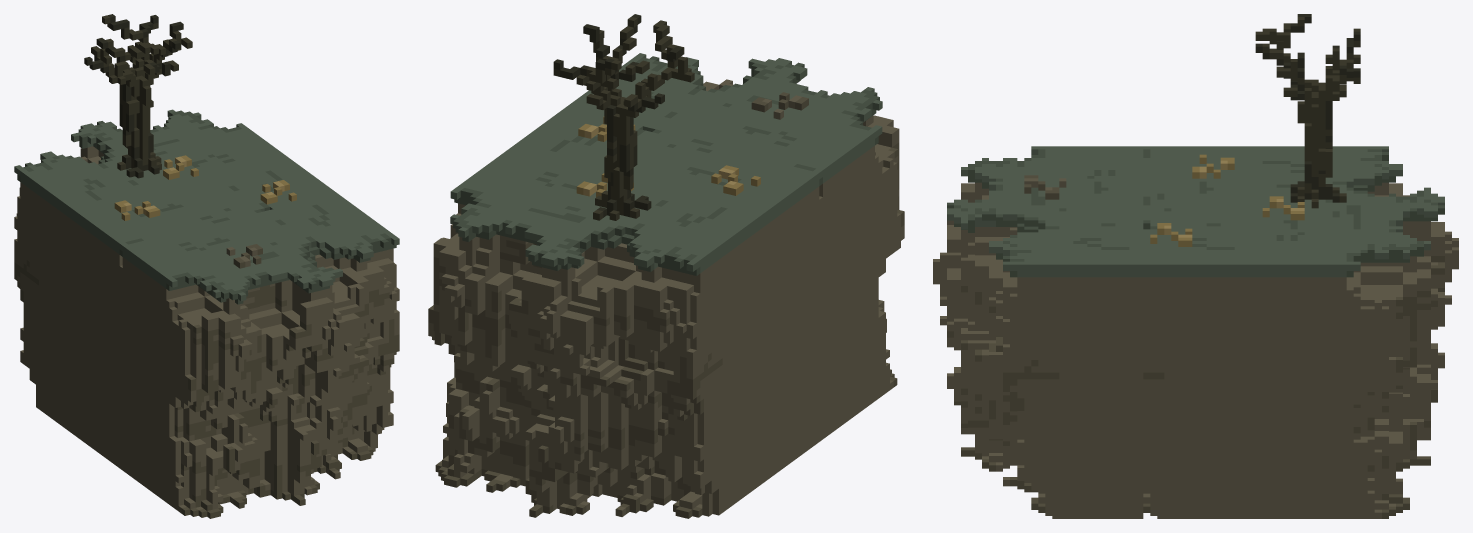
Rendered from MountainRocks-3.obj.
The picture shows the model from 3 angles, left to right: view 1: azimuth 30°, elevation 25°; view 2: azimuth 150°, elevation 25°; view 3: azimuth 270°, elevation 25°; orthographic projection. The views are drawn at different scales.
Bounding box in the file's own units: 4 × 6.5 × 7.5.
Materials: 1 (1 with a texture image).
